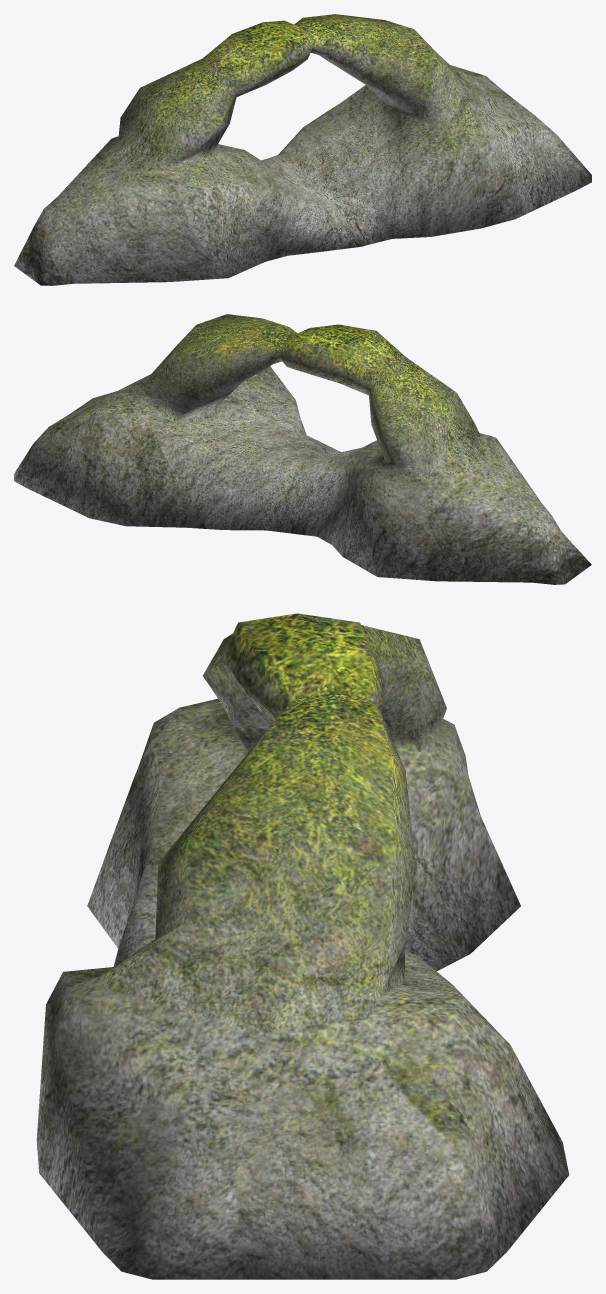
The model's file is Rock 4.glb.
The picture shows the model from 3 angles, top to bottom: view 1: azimuth 30°, elevation 25°; view 2: azimuth 150°, elevation 25°; view 3: azimuth 270°, elevation 25°; orthographic projection. The views are drawn at different scales.
Visible parts, largest first — view 1: LowPoly; view 2: LowPoly; view 3: LowPoly.
Boxes of the visible parts, x1,y1,x2,y2 form: LowPoly: (14,14,591,285); LowPoly: (14,314,591,584); LowPoly: (36,613,569,1279).
Bounding box in the file's own units: 21.86 × 7.35 × 9.58.
Materials: 1 (1 with a texture image).
